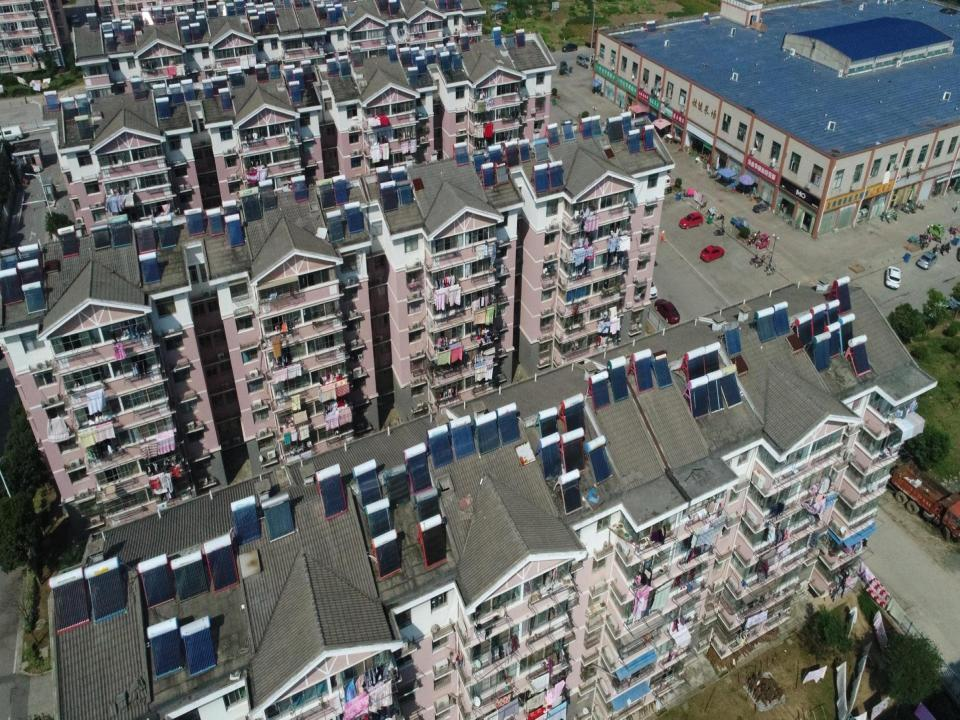car: (654, 298, 680, 325), (678, 211, 704, 230), (884, 265, 902, 290), (700, 244, 725, 262), (915, 251, 938, 270), (644, 275, 658, 300), (562, 43, 577, 53), (72, 13, 80, 24)
truck: (891, 458, 959, 542), (585, 26, 612, 48)
van: (0, 125, 25, 141), (656, 174, 670, 190), (576, 54, 591, 68)
